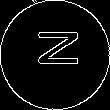N_W: (29, 35, 81, 75)
